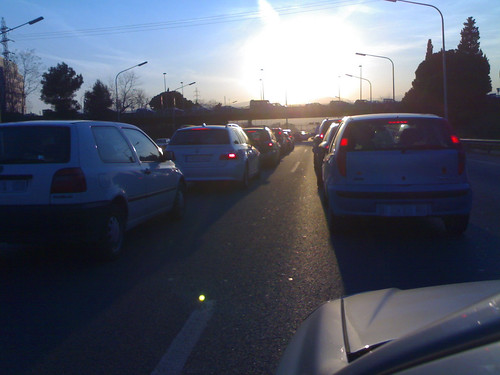car: (1, 122, 199, 249), (325, 109, 476, 233), (163, 119, 259, 191)
road: (6, 145, 500, 370)
sky: (1, 1, 436, 102)
sun: (245, 10, 368, 101)
tree: (432, 17, 500, 100), (40, 62, 82, 110), (85, 79, 112, 111)
